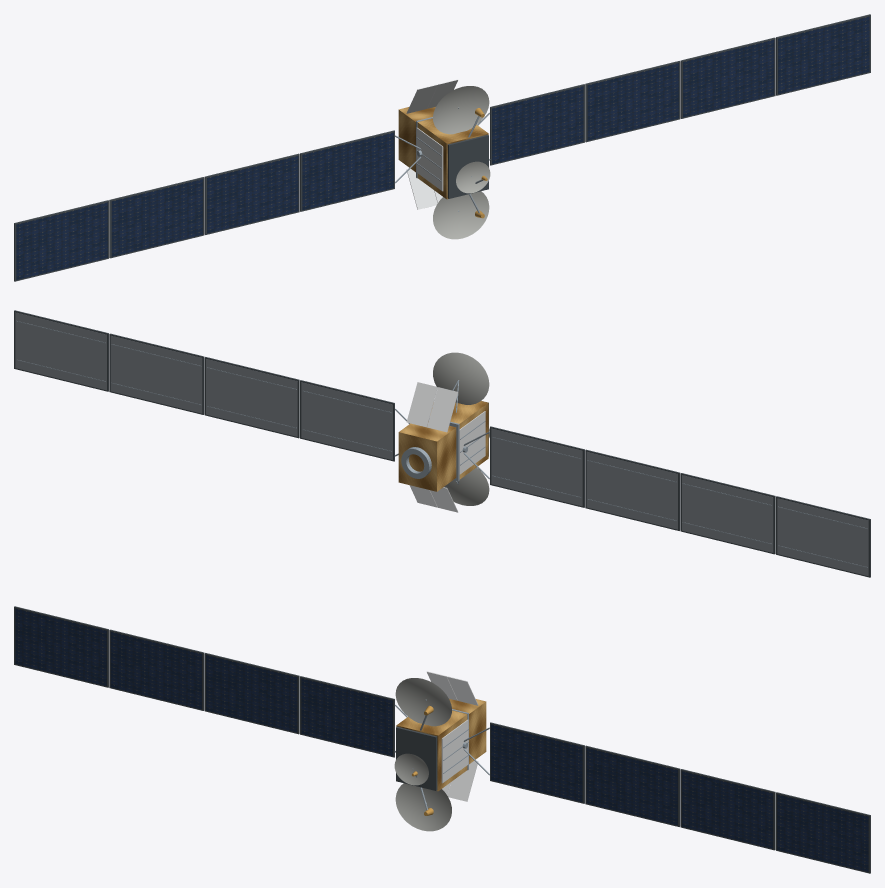
The model's file is spacebus-3000b3-galaxy.glb.
3 views of the same model, one above another, from view 1: azimuth 30°, elevation 25°; view 2: azimuth 150°, elevation 25°; view 3: azimuth 330°, elevation 25° (orthographic).
Visible parts, largest first — view 1: Solar cell panel (×8), Solar panel frame (×8), Communications reflector (×2), Earth-facing deck, Radiator face, Payload module, Service module, Deck-mounted reflector, Deployed radiator leaf; view 2: Rear array substrate (×8), Solar panel frame (×8), Communications reflector (×2), Service module, Deployed radiator leaf (×2), Radiator face, Payload module, Launch adapter ring; view 3: Solar cell panel (×8), Solar panel frame (×8), Communications reflector (×2), Earth-facing deck, Radiator face, Payload module, Service module, Deck-mounted reflector, Deployed radiator leaf.
Part boxes in pixels (box(x1,y1,x2,y2)): Solar cell panel (×8): box(16, 16, 869, 280); Solar panel frame (×8): box(14, 14, 870, 281); Communications reflector (×2): box(433, 86, 489, 239); Earth-facing deck: box(447, 134, 488, 198); Radiator face: box(416, 127, 443, 191); Payload module: box(417, 118, 488, 199); Service module: box(398, 107, 435, 172); Deck-mounted reflector: box(456, 161, 490, 193); Deployed radiator leaf: box(406, 168, 437, 209); Rear array substrate (×8): box(15, 312, 868, 576); Solar panel frame (×8): box(14, 310, 870, 577); Communications reflector (×2): box(433, 352, 489, 505); Service module: box(398, 421, 456, 491); Deployed radiator leaf (×2): box(406, 382, 458, 432); Radiator face: box(459, 411, 485, 474); Payload module: box(432, 401, 488, 479); Launch adapter ring: box(401, 447, 431, 478); Solar cell panel (×8): box(15, 608, 868, 872); Solar panel frame (×8): box(14, 606, 870, 873); Communications reflector (×2): box(395, 678, 451, 831); Earth-facing deck: box(396, 726, 437, 790); Radiator face: box(441, 719, 468, 783); Payload module: box(396, 710, 467, 791); Service module: box(449, 699, 486, 764); Deck-mounted reflector: box(394, 753, 428, 785); Deployed radiator leaf: box(447, 760, 478, 801).
Bounding box in the file's own units: 36.86 × 6.24 × 4.78.
Materials: 8 (2 with a texture image).
